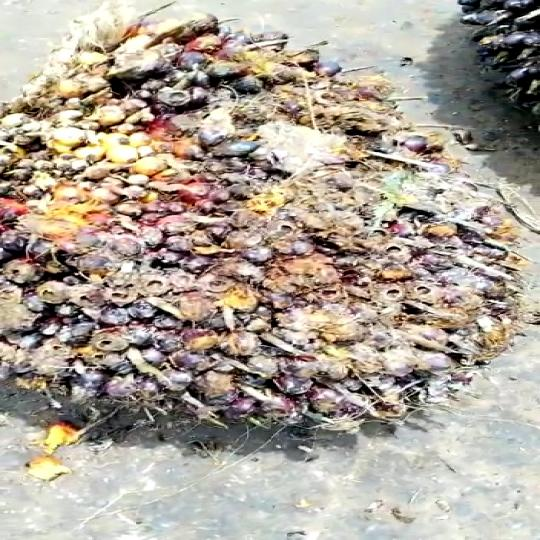kurang masak: (0, 13, 516, 456)
